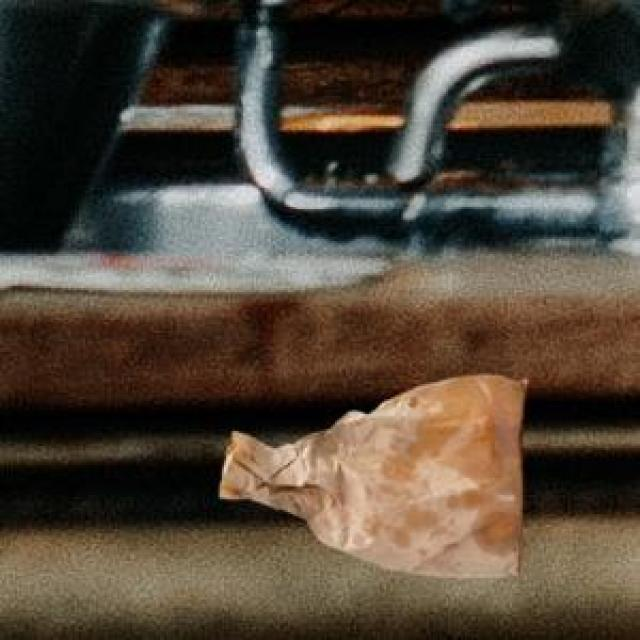paper: (216, 371, 522, 574)
